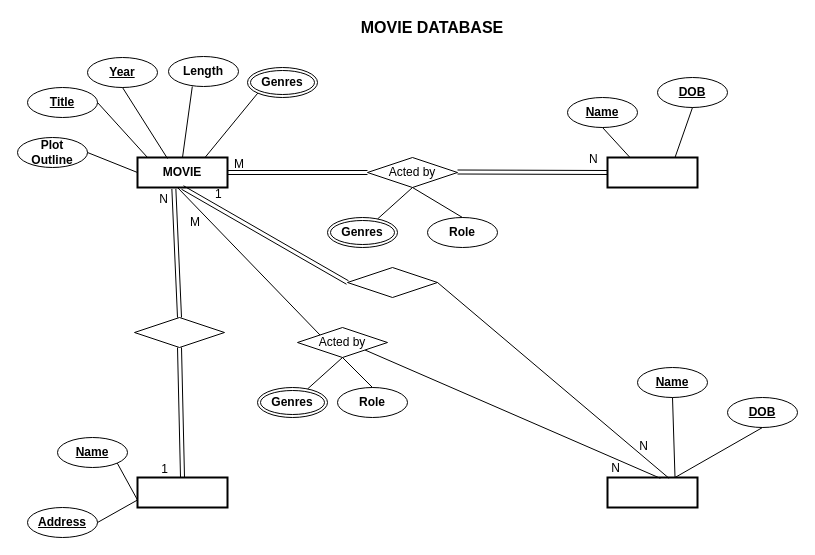
This 815x555 diagram has some shape labels left out. The box of each missing label's shape, as (x1, y1, x2, y2) in pixels:
ACTOR: (606, 156, 698, 188)
Directed by: (346, 266, 438, 298)
DIRECTOR: (606, 476, 698, 508)
Produces: (134, 316, 224, 348)
PRODUCTION COMPANY: (136, 476, 228, 508)
